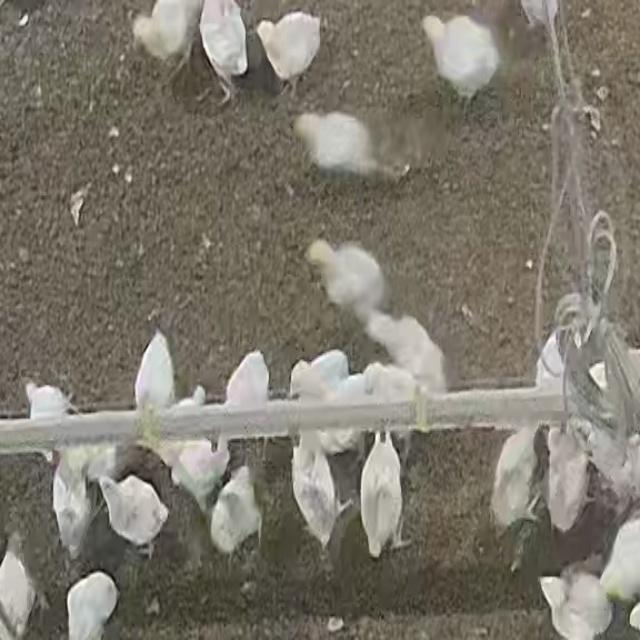chicken: (422, 11, 502, 104), (309, 239, 397, 319), (97, 472, 168, 556), (358, 430, 404, 558), (290, 437, 341, 552), (256, 9, 322, 93), (293, 108, 373, 176), (490, 426, 541, 531), (210, 461, 261, 558), (538, 570, 610, 638), (52, 445, 93, 559), (132, 0, 202, 64), (173, 435, 228, 511), (198, 0, 247, 84), (542, 428, 591, 512), (24, 381, 78, 453), (133, 328, 176, 416), (65, 571, 120, 639), (362, 314, 446, 358), (599, 514, 640, 602), (1, 540, 39, 634), (289, 349, 346, 400), (223, 351, 270, 412)
